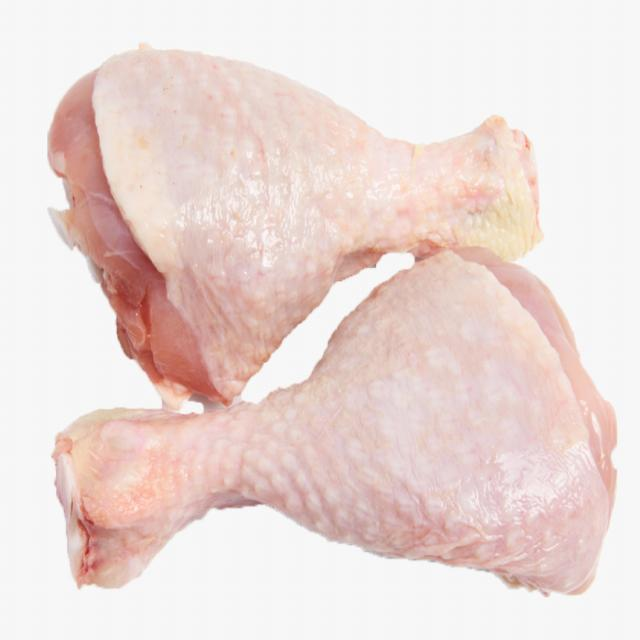chicken: (54, 243, 619, 601), (38, 41, 544, 406)
